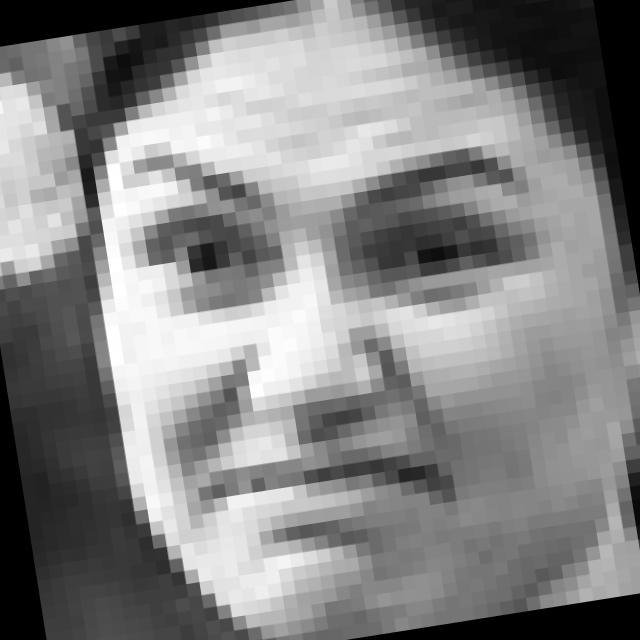disgust: (109, 89, 594, 618)
